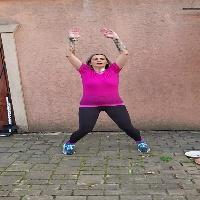jumping_jacks: (49, 15, 156, 164)
